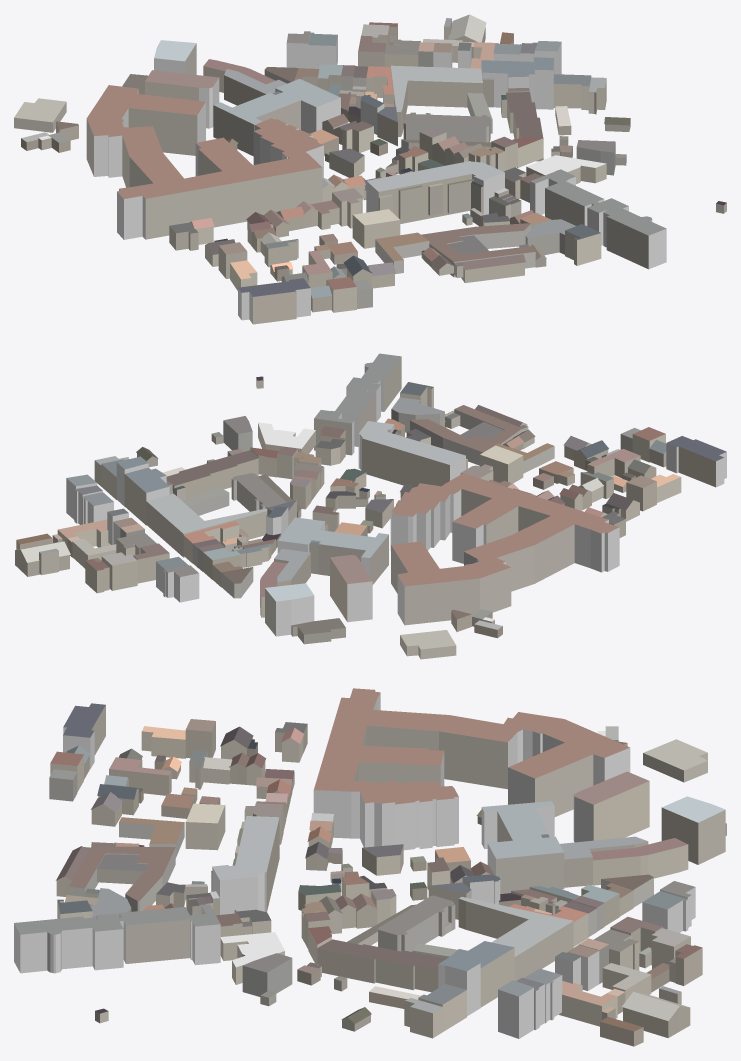
3 views of the same model, one above another, from view 1: azimuth 30°, elevation 25°; view 2: azimuth 150°, elevation 25°; view 3: azimuth 270°, elevation 25° (orthographic). The views are drawn at different scales.
Parts seen in each view (by area): view 1: tuile; view 2: tuile; view 3: tuile.
Part boxes in pixels (x1,y1,x2,y2): tuile: [14, 14, 726, 324]; tuile: [15, 353, 726, 659]; tuile: [14, 688, 726, 1046].
Size of the model in its own units: 269 by 30.81 by 280.
